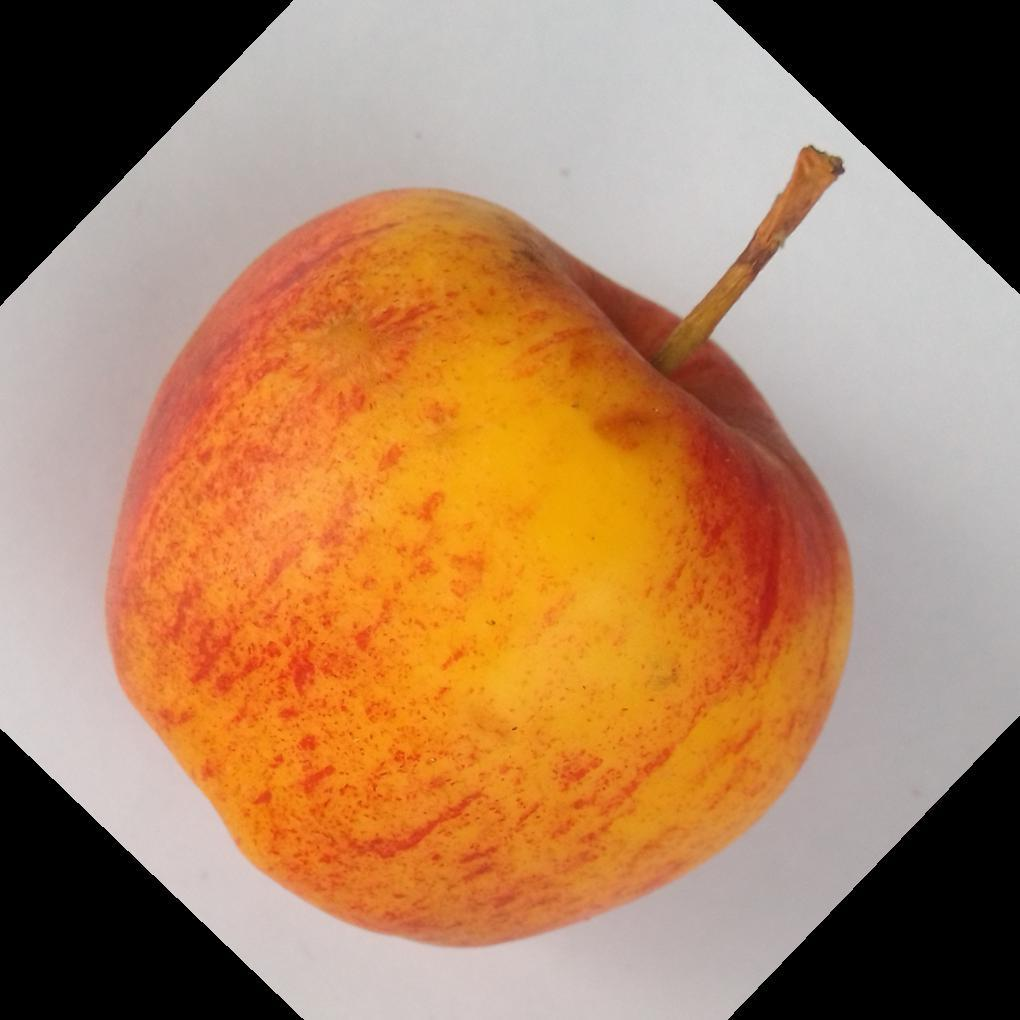FreshGuava: (101, 187, 854, 951)
